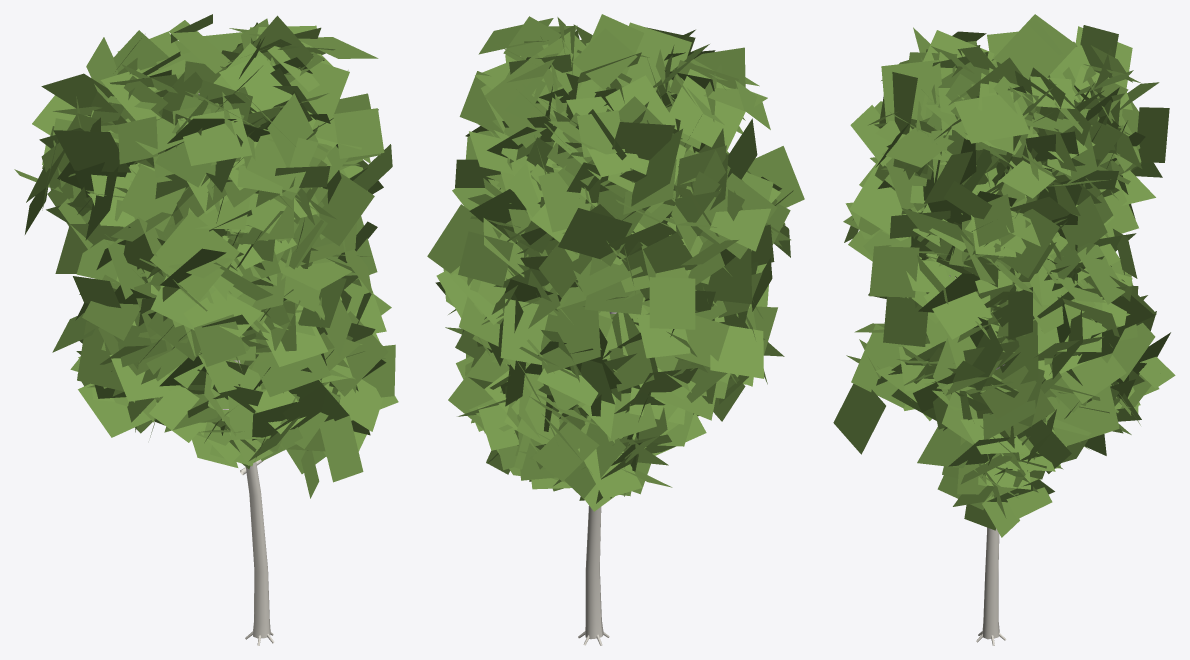
The model's file is birch-5-lod0.glb.
The picture shows the model from 3 angles, left to right: view 1: azimuth 30°, elevation 25°; view 2: azimuth 150°, elevation 25°; view 3: azimuth 270°, elevation 25°; orthographic projection. The views are drawn at different scales.
Parts seen in each view (by area): view 1: birch-5-lod0-foliage, birch-5-lod0-bark; view 2: birch-5-lod0-foliage, birch-5-lod0-bark; view 3: birch-5-lod0-foliage, birch-5-lod0-bark.
Part boxes in pixels (x1,y1,x2,y2): birch-5-lod0-foliage: [14, 14, 398, 498]; birch-5-lod0-bark: [198, 93, 274, 645]; birch-5-lod0-foliage: [427, 14, 804, 511]; birch-5-lod0-bark: [578, 312, 616, 645]; birch-5-lod0-foliage: [833, 14, 1175, 537]; birch-5-lod0-bark: [949, 275, 1006, 645].
Bounding box in the file's own units: 8.21 × 14.87 × 7.64.
